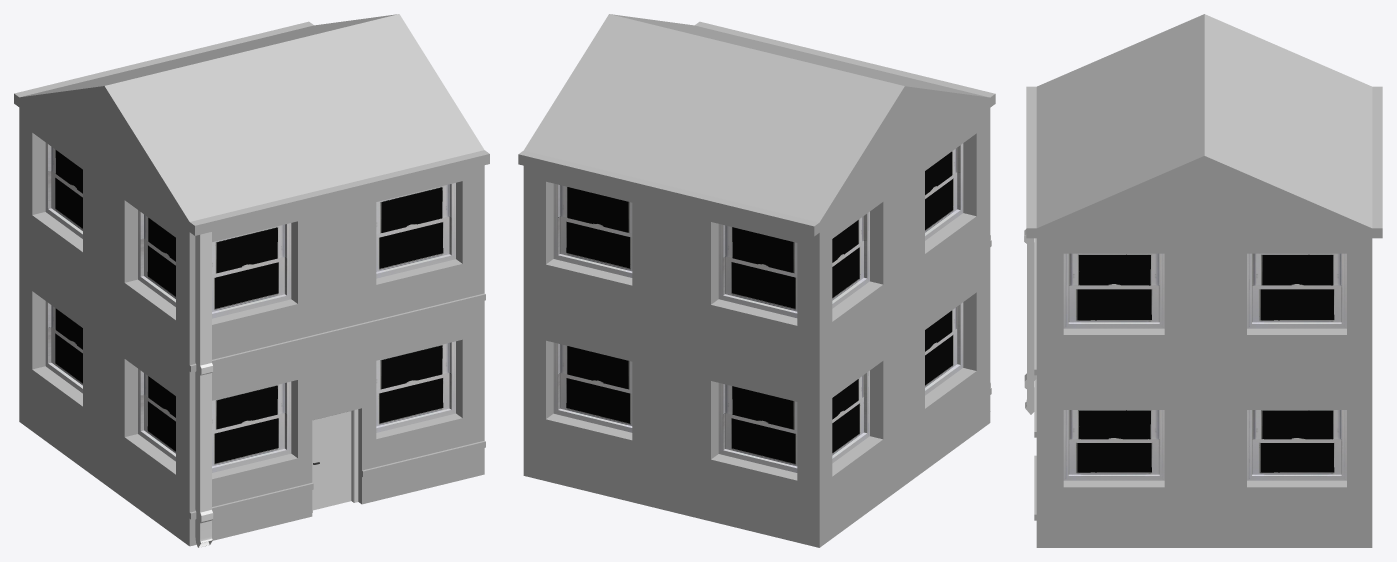
Rendered from Unit_object.obj.
3 views of the same model, side by side, from view 1: azimuth 30°, elevation 25°; view 2: azimuth 150°, elevation 25°; view 3: azimuth 270°, elevation 25° (orthographic).
Visible parts, largest first — view 1: Unit_object; view 2: Unit_object; view 3: Unit_object.
Part boxes in pixels (<box>): Unit_object: <box>14,14,489,547</box>; Unit_object: <box>518,14,995,547</box>; Unit_object: <box>1024,14,1382,547</box>.
Size of the model in its own units: 9.29 by 12.01 by 9.92.
